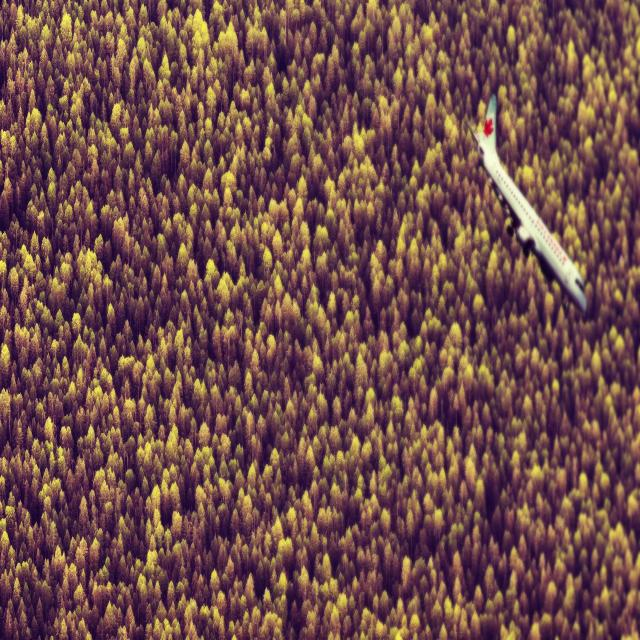airplane: (464, 93, 588, 314)
